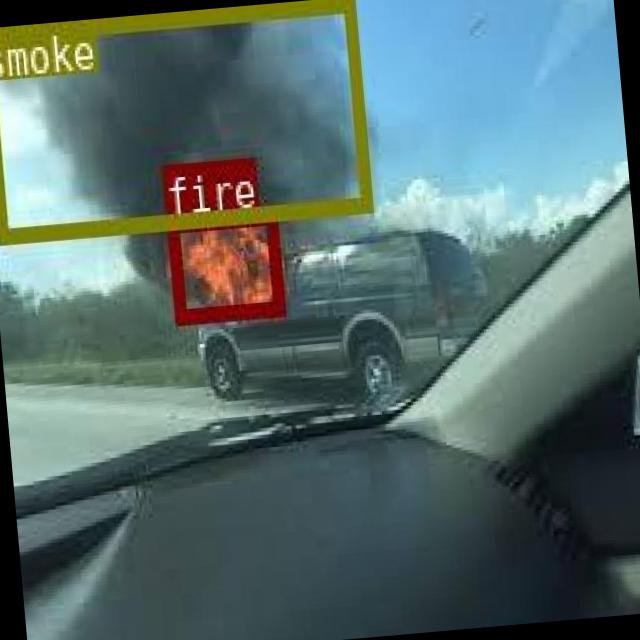fire: (165, 206, 282, 320)
smoke: (0, 0, 369, 242)
